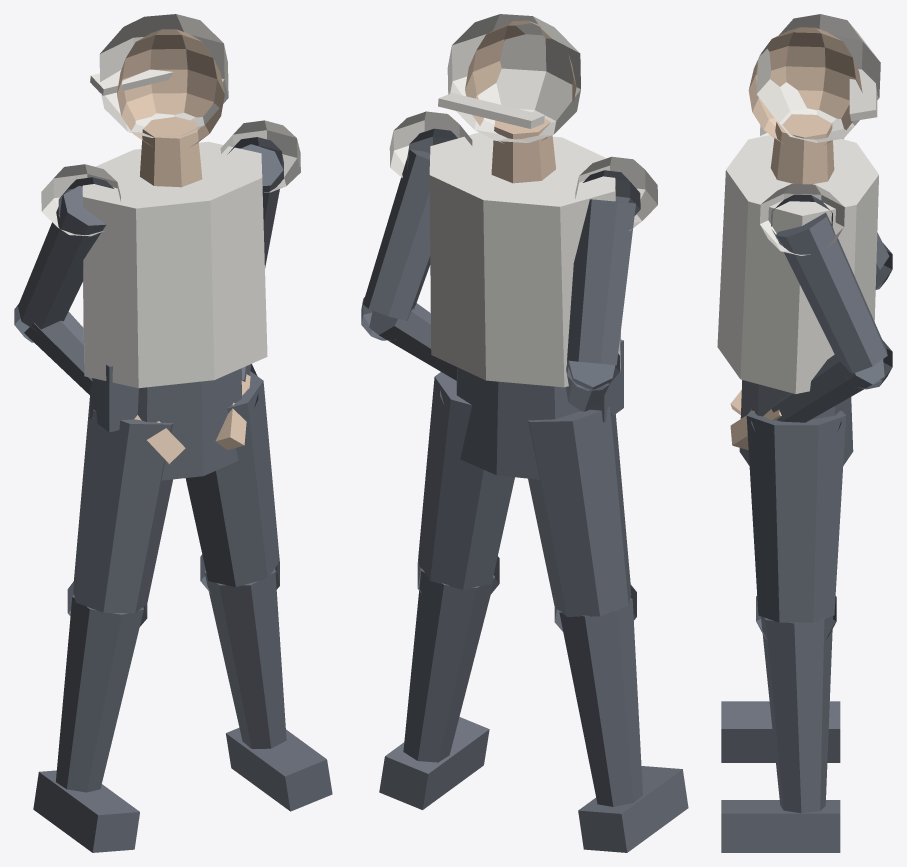
Rendered from low-poly-character-figures-trooper-standing-364ea513__36382.glb.
3 views of the same model, side by side, from view 1: azimuth 30°, elevation 25°; view 2: azimuth 150°, elevation 25°; view 3: azimuth 270°, elevation 25° (orthographic). The views are drawn at different scales.
Visible parts, largest first — view 1: trooper-standing; view 2: trooper-standing; view 3: trooper-standing.
Boxes of the visible parts, <box> form: trooper-standing: <box>14,14,332,852</box>; trooper-standing: <box>361,14,688,852</box>; trooper-standing: <box>717,14,892,852</box>.
Bounding box in the file's own units: 0.6178 × 1.86 × 0.3783.
